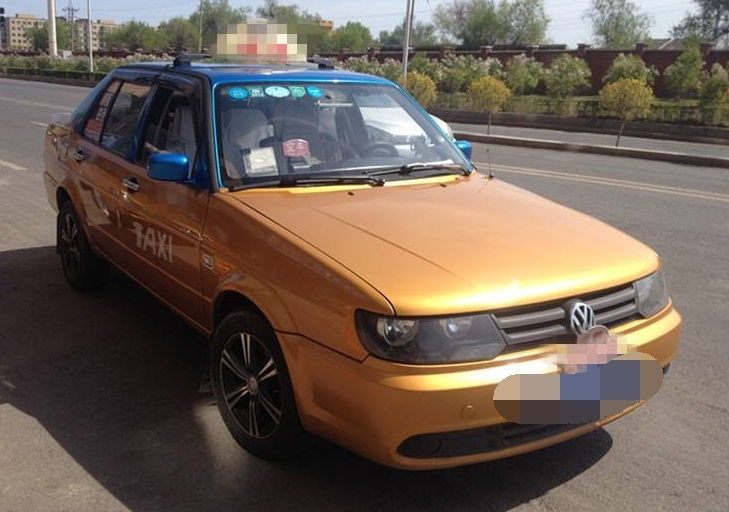taxi: (44, 48, 676, 459)
